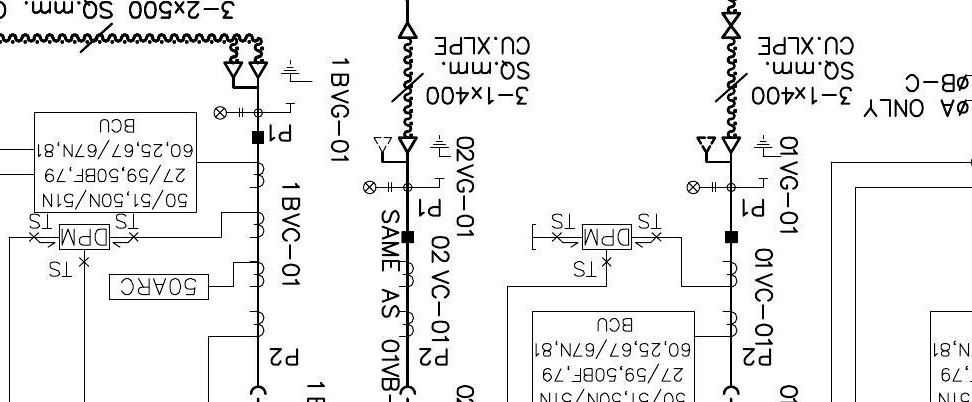22_gs: (279, 60, 313, 106), (752, 135, 782, 181), (429, 135, 453, 180)
22_ll: (686, 180, 717, 195), (362, 180, 393, 195), (213, 105, 244, 120)
DPM: (580, 223, 634, 251), (58, 223, 111, 251)
terminator_double: (222, 61, 269, 90)
terminator_single: (396, 21, 419, 40)
terminator_splicing_kits: (721, 12, 742, 40)
terminator_w_future: (695, 135, 742, 165), (372, 135, 419, 164)
